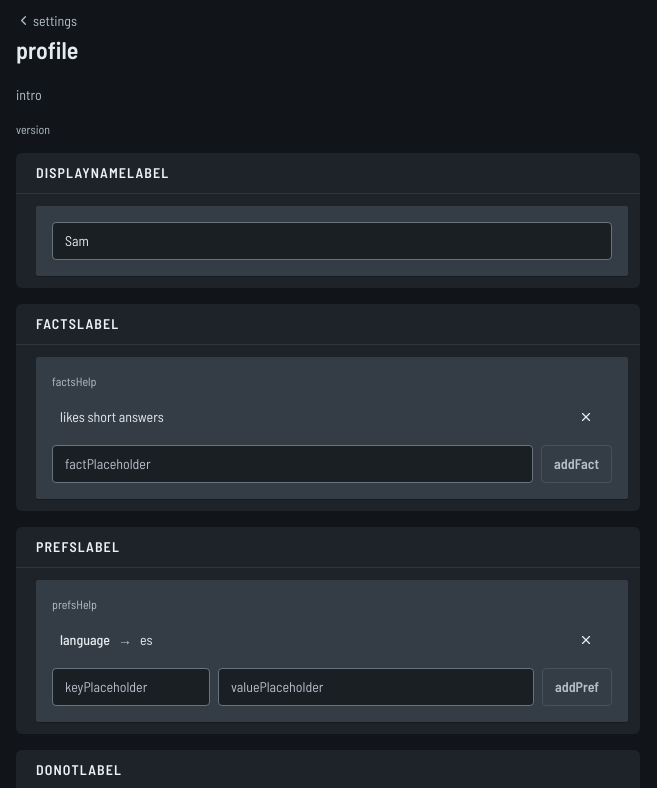
Test case: UserProfilePage › blocks duplicate preference keys with an inline message
The image size is (657, 788).
Expected: the text "language" is shown, [60,630,110,650]
Type "language" into the field with placeholder "keyPlaceholder".
click(131, 686); type("language")  # box [52,668,210,706]
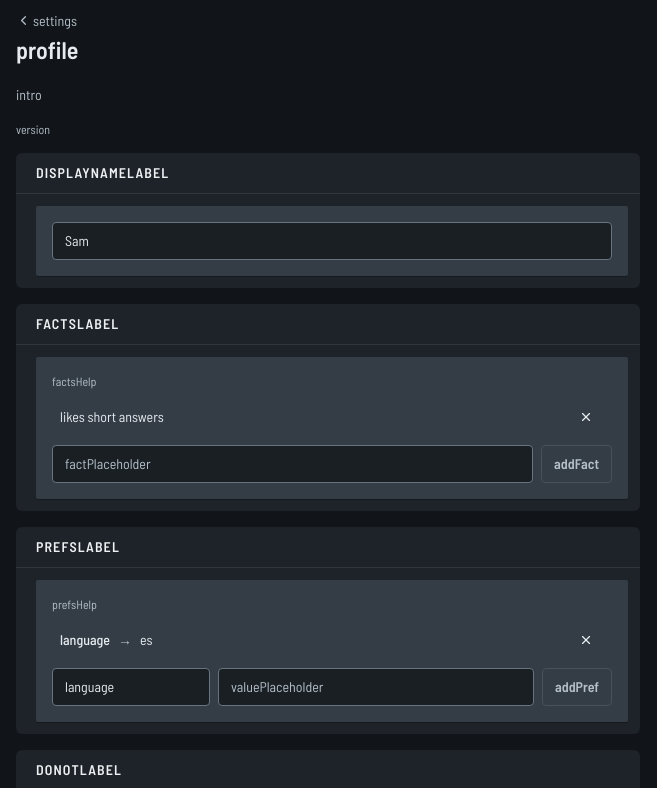
Type "en" into the field with placeholder "valuePlaceholder".
click(376, 686); type("en")  # box [218,668,534,706]
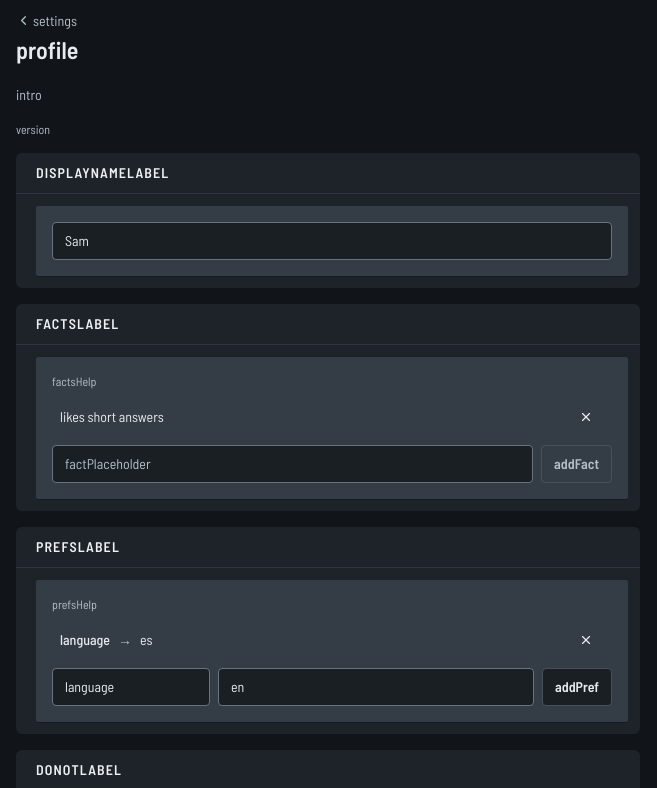
Click the button "addPref".
click(577, 686)  # box [542,668,612,706]
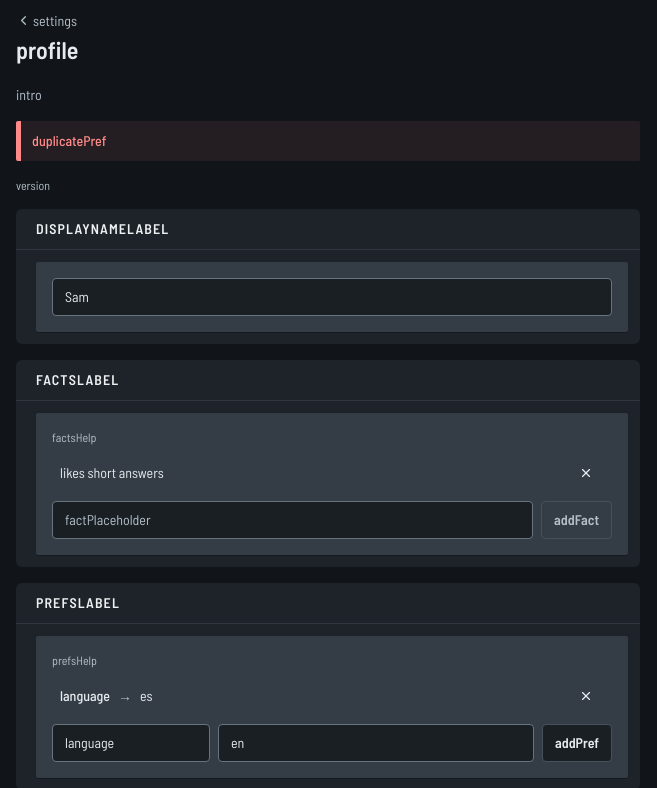
Expected: the text "duplicatePref" is shown, [16,120,640,160]
